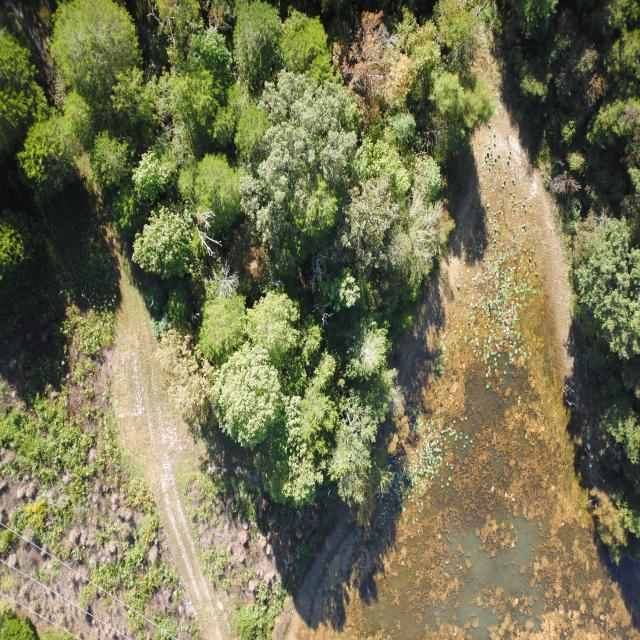Area of Interest: (11, 7, 637, 520)
